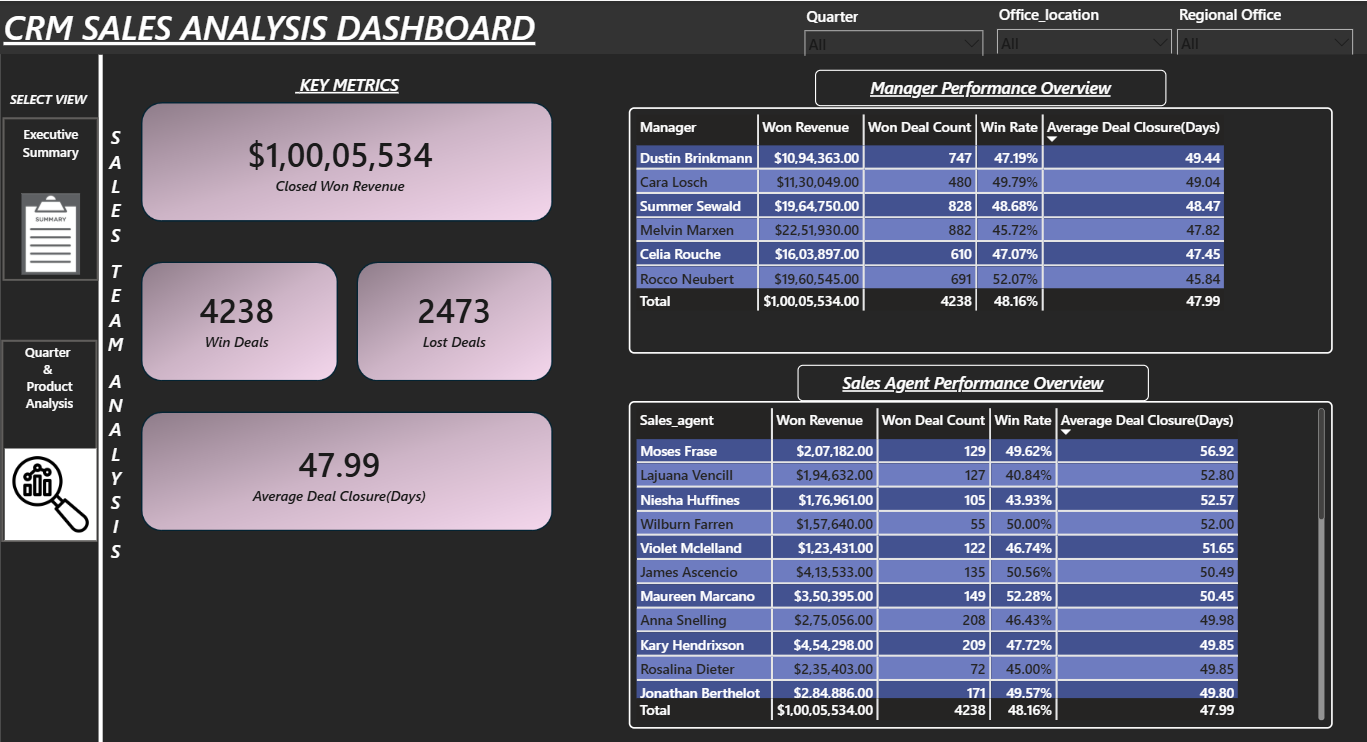

The dashboard page shown, as its layout file describes it:
{"tool":"powerbi","page":{"name":"Sales Team Analysis","canvas":[1980,1080],"ordinal":1},"visuals":[{"type":"shape","box":[0,0,1979.2,77],"z":0},{"type":"actionButton","box":[3.6,168.3,139.3,237.1],"z":0,"group":"g1"},{"type":"actionButton","box":[1.8,490.4,139.3,293.2],"z":0,"group":"g2"},{"type":"textbox","box":[0,0,834.3,77.8],"z":1000},{"type":"textbox","box":[3.6,175,139.3,67.3],"z":1000,"group":"g1"},{"type":"textbox","box":[1.8,490.4,139.3,110.5],"z":1000,"group":"g2"},{"type":"shape","box":[133.9,77.8,23.5,1002.6],"z":2000},{"type":"image","box":[20.5,279.3,107.3,117.7],"z":2000,"group":"g1"},{"type":"image","box":[3.6,647.4,139.3,133],"z":2000,"group":"g2"},{"type":"card","fields":{"Values":["Sum(SalesPipeline_Clean.Revenue)"]},"box":[314.9,153.8,354.7,159.3],"z":3000},{"type":"card","fields":{"Values":["Account_Clean.Win Deals"]},"box":[215.3,380,255.2,159.3],"z":4000},{"type":"card","fields":{"Values":["Account_Clean.Lost Deals"]},"box":[530.2,380,255.2,159.3],"z":5000},{"type":"card","fields":{"Values":["Account_Clean.Average Deal Closure in days"]},"box":[352.9,602.6,276.9,159.3],"z":6000},{"type":"slicer","fields":{"Values":["SalesTeam_Clean.Regional_office"]},"box":[1693.8,0,275.1,77.8],"z":7000},{"type":"tableEx","fields":{"Values":["SalesTeam_Clean.Manager","Sum(SalesPipeline_Clean.Revenue)","Account_Clean.Win Deals","Account_Clean.Win Rate","Account_Clean.Average Deal Closure in days"]},"box":[910.3,153.8,1018.8,356.5],"z":8000},{"type":"tableEx","fields":{"Values":["SalesPipeline_Clean.Sales_agent","Sum(SalesPipeline_Clean.Revenue)","Account_Clean.Win Deals","Account_Clean.Win Rate","Account_Clean.Average Deal Closure in days"]},"box":[910.3,579.1,1018.8,474.1],"z":9000},{"type":"textbox","box":[141.2,121.2,52.5,761.9],"z":10000},{"type":"textbox","box":[343.8,99.5,316.7,54.3],"z":11000},{"type":"textbox","box":[1154.6,526.6,508.5,52.5],"z":12000},{"type":"textbox","box":[1179.9,99.5,508.5,52.5],"z":13000},{"type":"slicer","fields":{"Values":["SalesPipeline_Clean.QUARTER"]},"box":[1154.6,1.8,278.7,77.8],"z":14000},{"type":"slicer","fields":{"Values":["Account_Clean.Office_location"]},"box":[1433.3,0,273.3,76],"z":15000},{"type":"group","id":"g1","title":"Group 1","box":[3.6,168.3,139.3,237.1],"z":16000},{"type":"group","id":"g2","title":"Group 1","box":[1.8,490.4,141.2,293.2],"z":17000},{"type":"textbox","box":[3.6,124.9,132.1,50.7],"z":18000}]}

Visuals, with their boxes in screenshot pixels (x1, y1, x2, y2), scaled from the page's 1980x1080 canvas onto the 1367x742 screenshot:
shape: l=0, t=0, r=1366, b=53
actionButton: l=2, t=116, r=99, b=279
actionButton: l=1, t=337, r=97, b=538
textbox: l=0, t=0, r=576, b=53
textbox: l=2, t=120, r=99, b=166
textbox: l=1, t=337, r=97, b=413
shape: l=92, t=53, r=109, b=741
image: l=14, t=192, r=88, b=273
image: l=2, t=445, r=99, b=536
card - Sum(SalesPipeline_Clean.Revenue): l=217, t=106, r=462, b=215
card - Account_Clean.Win Deals: l=149, t=261, r=325, b=371
card - Account_Clean.Lost Deals: l=366, t=261, r=542, b=371
card - Account_Clean.Average Deal Closure in days: l=244, t=414, r=435, b=523
slicer - SalesTeam_Clean.Regional_office: l=1169, t=0, r=1359, b=53
tableEx - SalesTeam_Clean.Manager x Sum(SalesPipeline_Clean.Revenue): l=628, t=106, r=1332, b=351
tableEx - SalesPipeline_Clean.Sales_agent x Sum(SalesPipeline_Clean.Revenue): l=628, t=398, r=1332, b=724
textbox: l=97, t=83, r=134, b=607
textbox: l=237, t=68, r=456, b=106
textbox: l=797, t=362, r=1148, b=398
textbox: l=815, t=68, r=1166, b=104
slicer - SalesPipeline_Clean.QUARTER: l=797, t=1, r=990, b=55
slicer - Account_Clean.Office_location: l=990, t=0, r=1178, b=52
"Group 1" group: l=2, t=116, r=99, b=279
"Group 1" group: l=1, t=337, r=99, b=538
textbox: l=2, t=86, r=94, b=121
